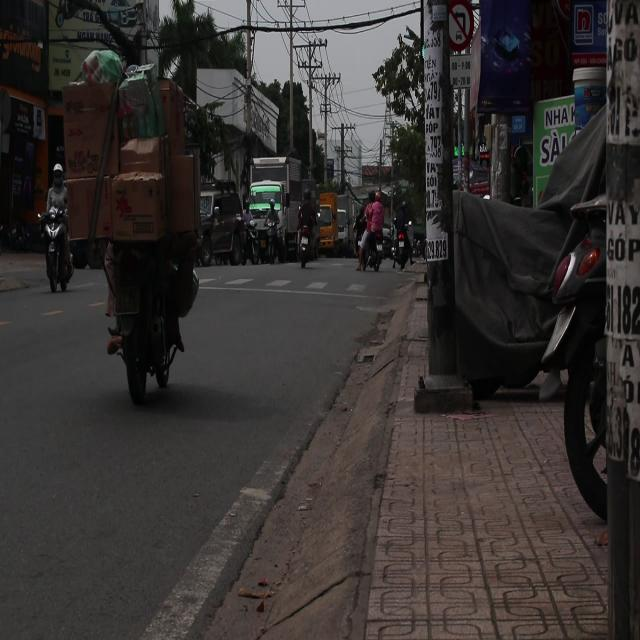motorbike: (102, 234, 190, 404), (41, 170, 85, 310), (342, 199, 383, 264), (391, 200, 424, 276)
truck: (248, 158, 318, 262), (200, 187, 246, 263)
